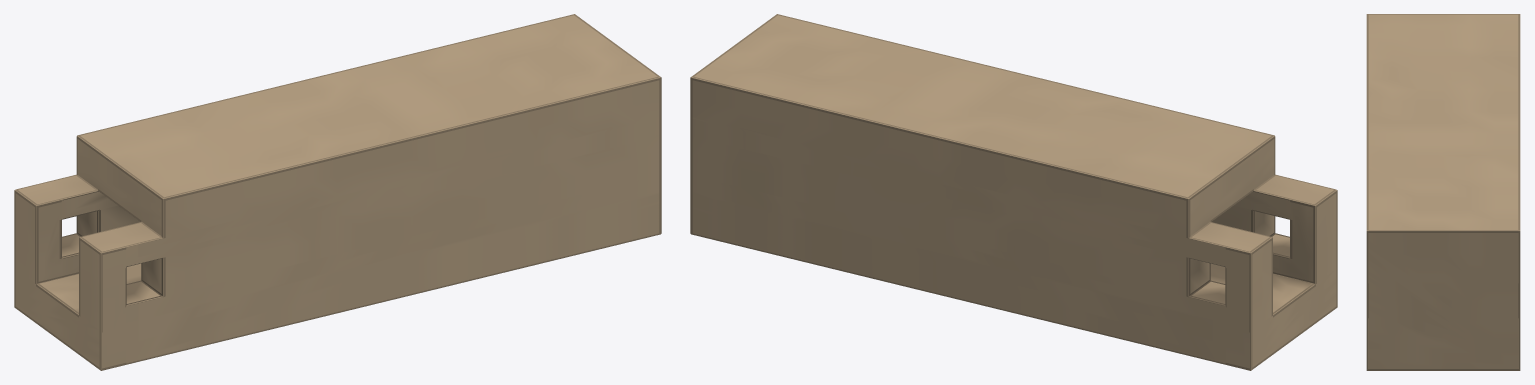
3 views of the same model, side by side, from view 1: azimuth 30°, elevation 25°; view 2: azimuth 150°, elevation 25°; view 3: azimuth 270°, elevation 25° (orthographic). The views are drawn at different scales.
Parts seen in each view (by area): view 1: part-b; view 2: part-b; view 3: part-b.
Part boxes in pixels (x1,y1,x2,y2): part-b: (14, 14, 661, 370); part-b: (690, 14, 1337, 370); part-b: (1366, 14, 1520, 370).
Bounding box in the file's own units: 0.4508 × 0.1208 × 0.1208.
